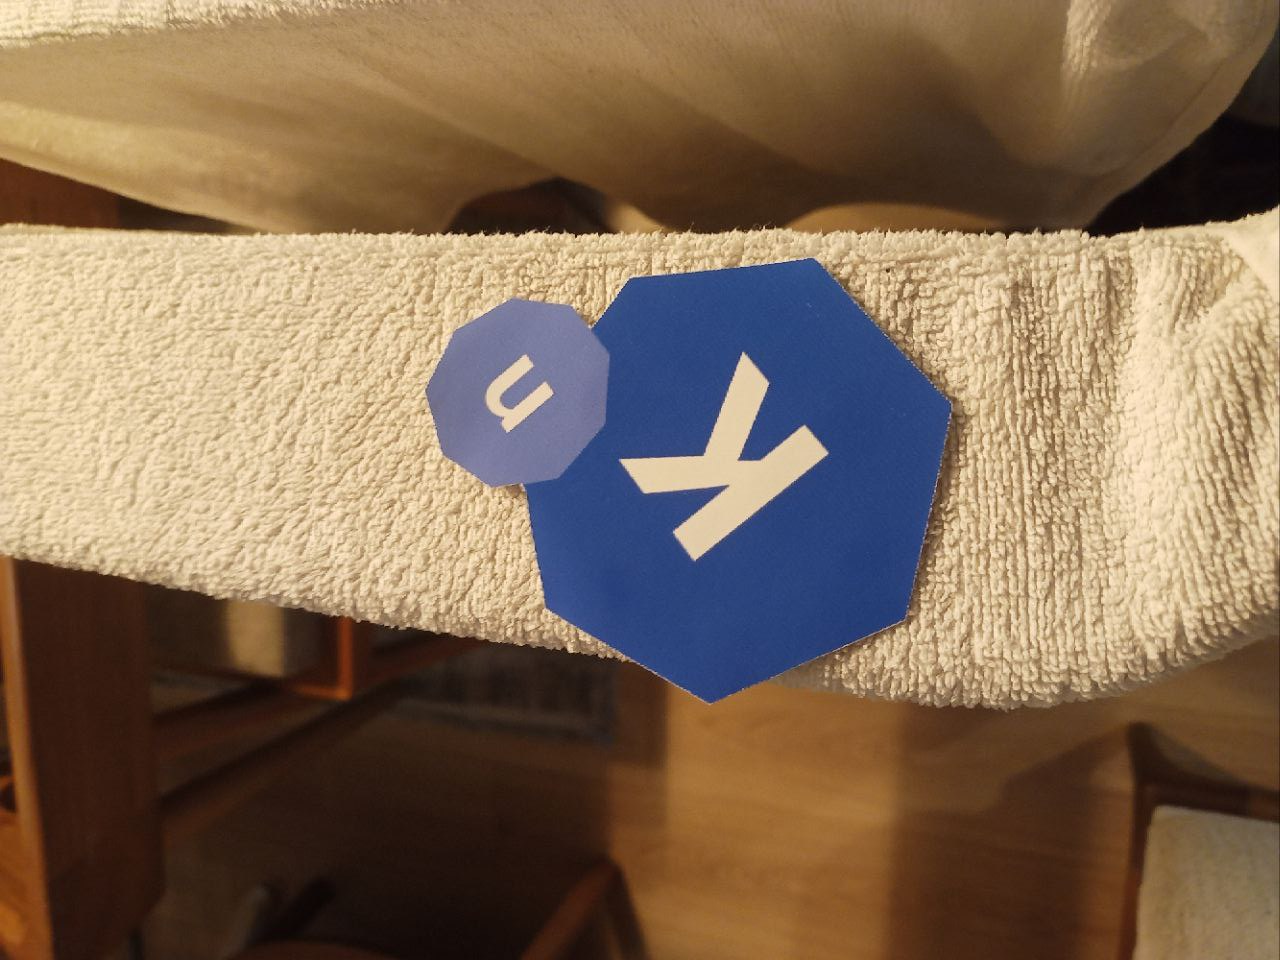knative: (423, 257, 956, 706)
